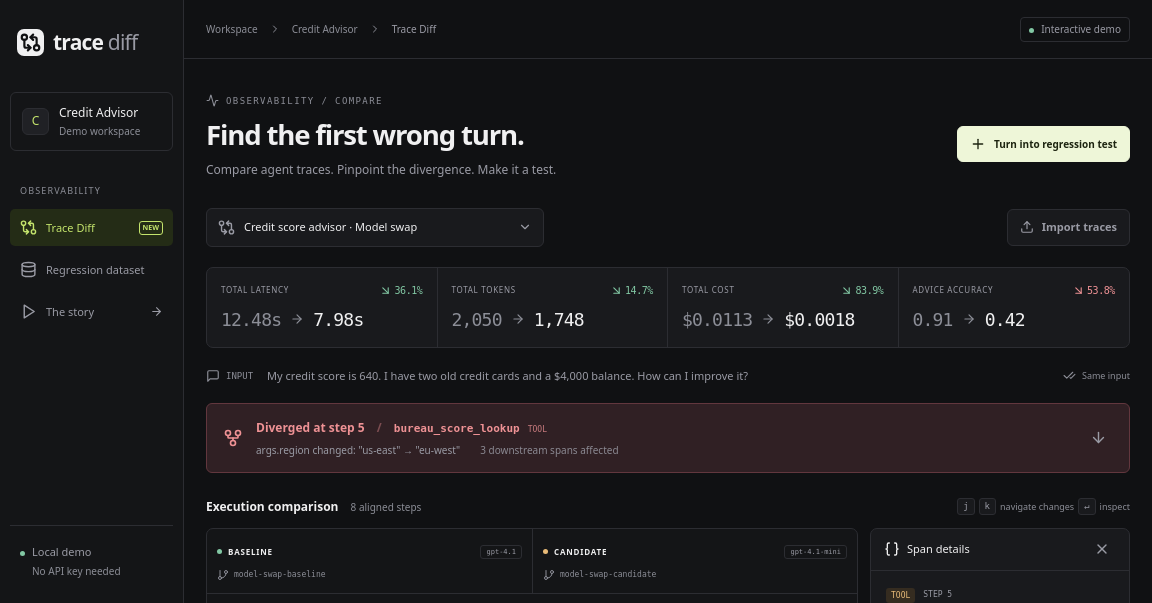
Test case: Trace Diff workflow › switches to the no-regression control
This screenshot has width=1152, height=603.
Select "Independent tool reorder · Control" in the dropdown named "Trace pair": (376,227) [244,209,509,246]
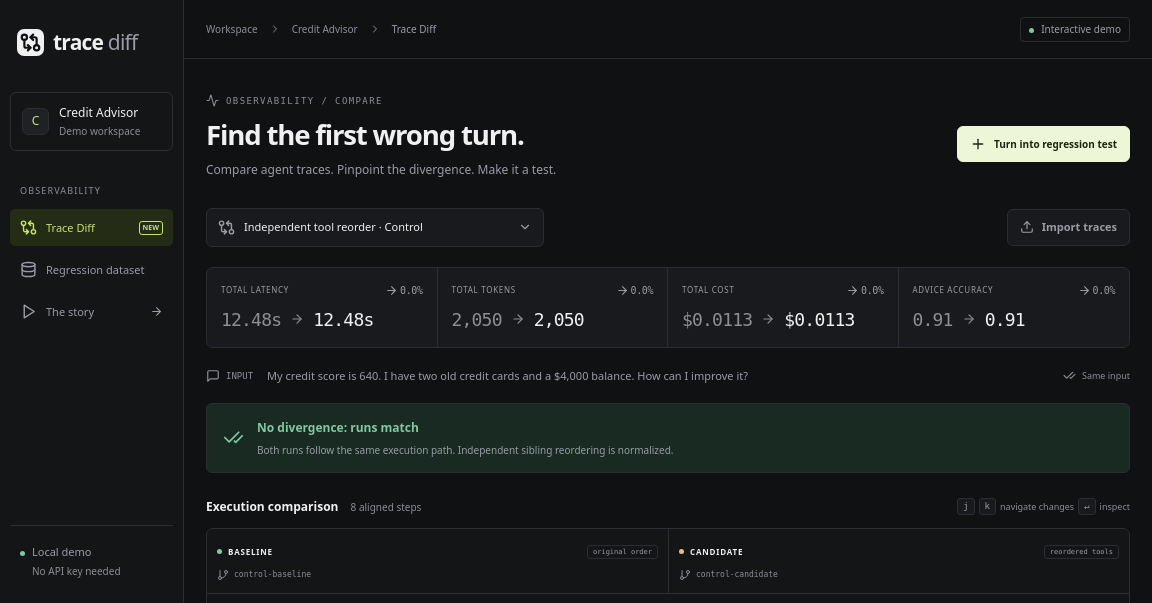
Check: the text "No divergence: runs match" is shown, box [257,419,419,436]
